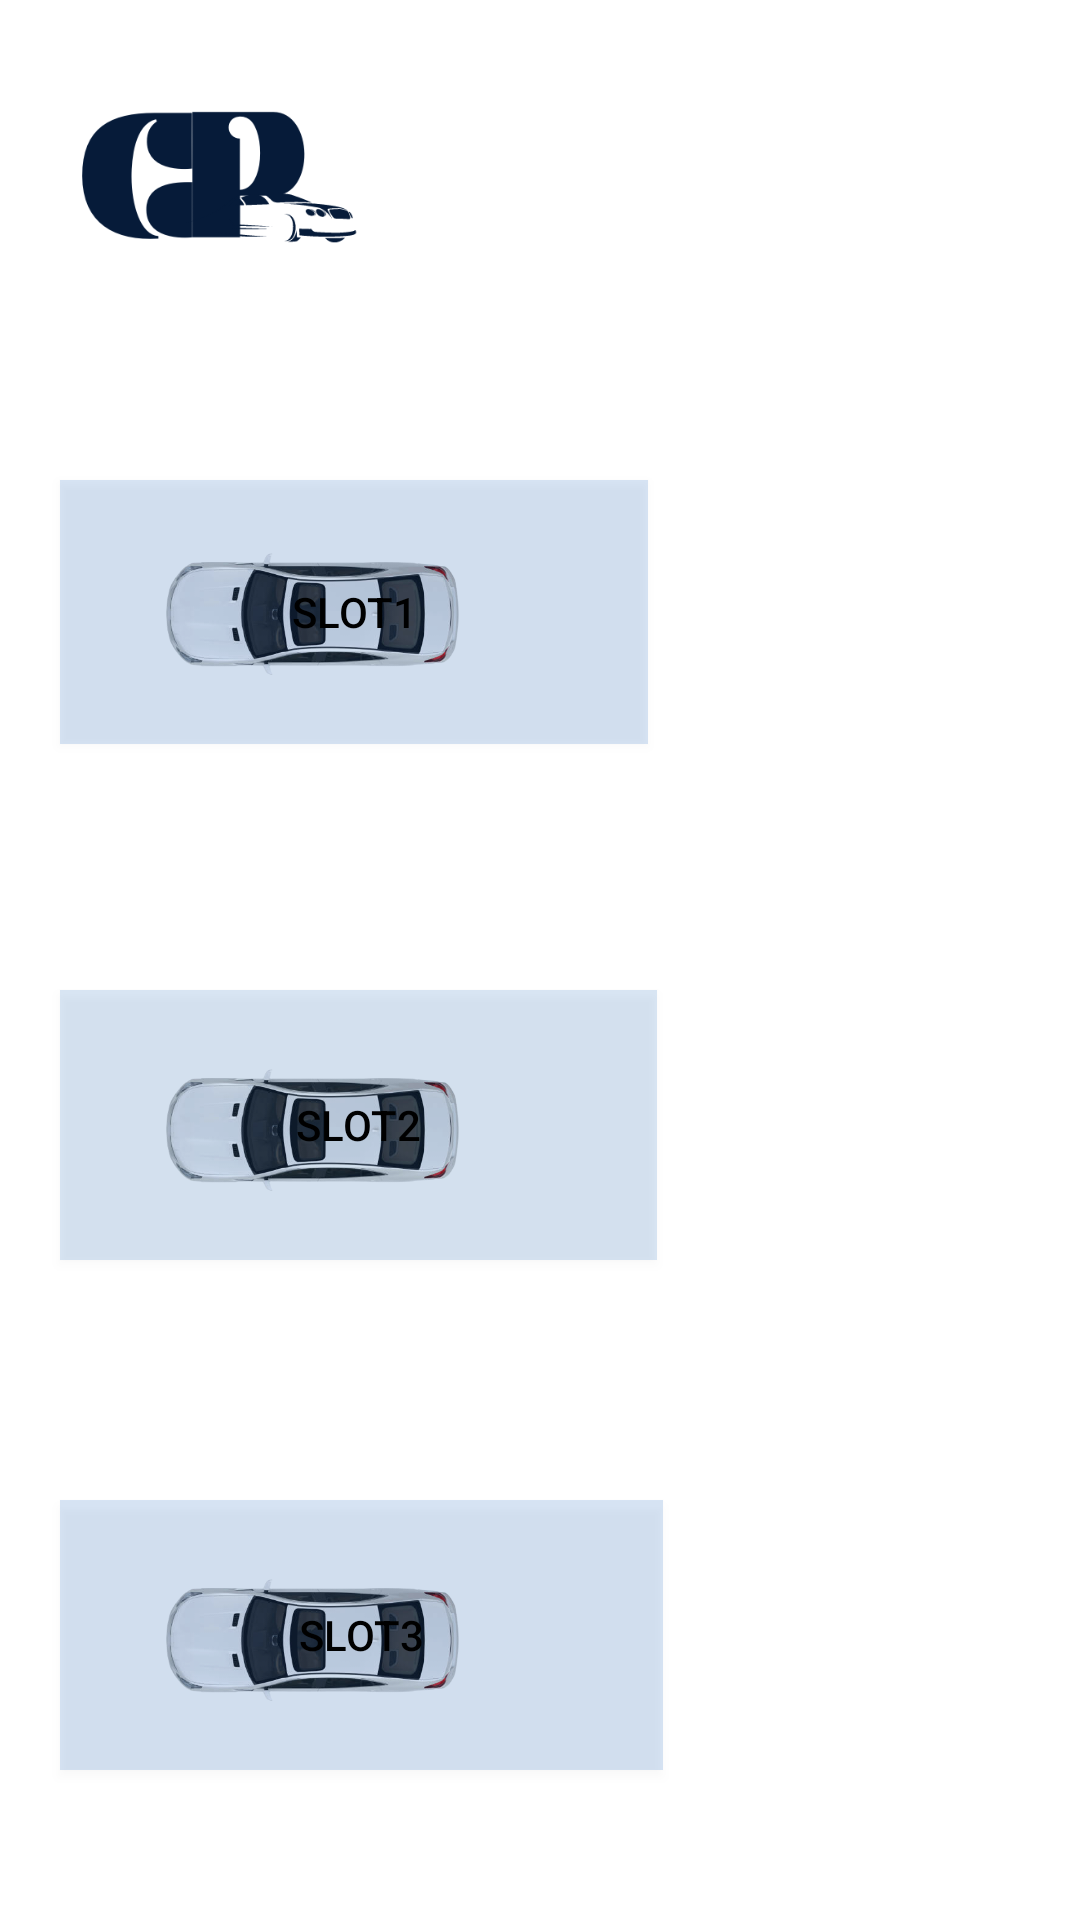

Point at icon controls on the screen. Image size 1080w x 1920h, points as [x,y].
car parking: [219,177]
